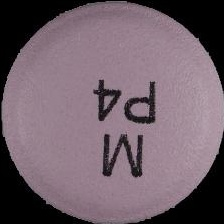54868-1819: (0, 0, 224, 224)
